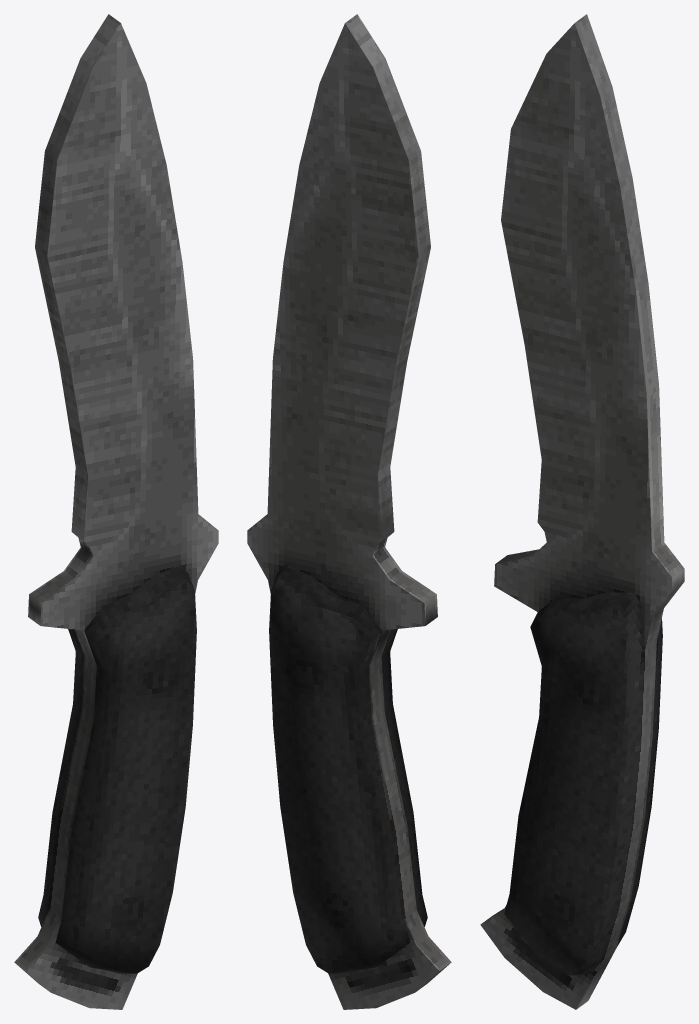
File: Kukri Knife.glb
3 renders of one model, left to right at view 1: azimuth 30°, elevation 25°; view 2: azimuth 150°, elevation 25°; view 3: azimuth 330°, elevation 25°, orthographic.
Visible parts, largest first — view 1: Kukri; view 2: Kukri; view 3: Kukri.
Part boxes in pixels (left/top/right/bottom): Kukri: left=14, top=14, right=218, bottom=1009; Kukri: left=247, top=14, right=451, bottom=1009; Kukri: left=480, top=14, right=684, bottom=1009.
Bounding box in the file's own units: 0.0579 × 0.2841 × 0.0183.
Materials: 1 (1 with a texture image).
